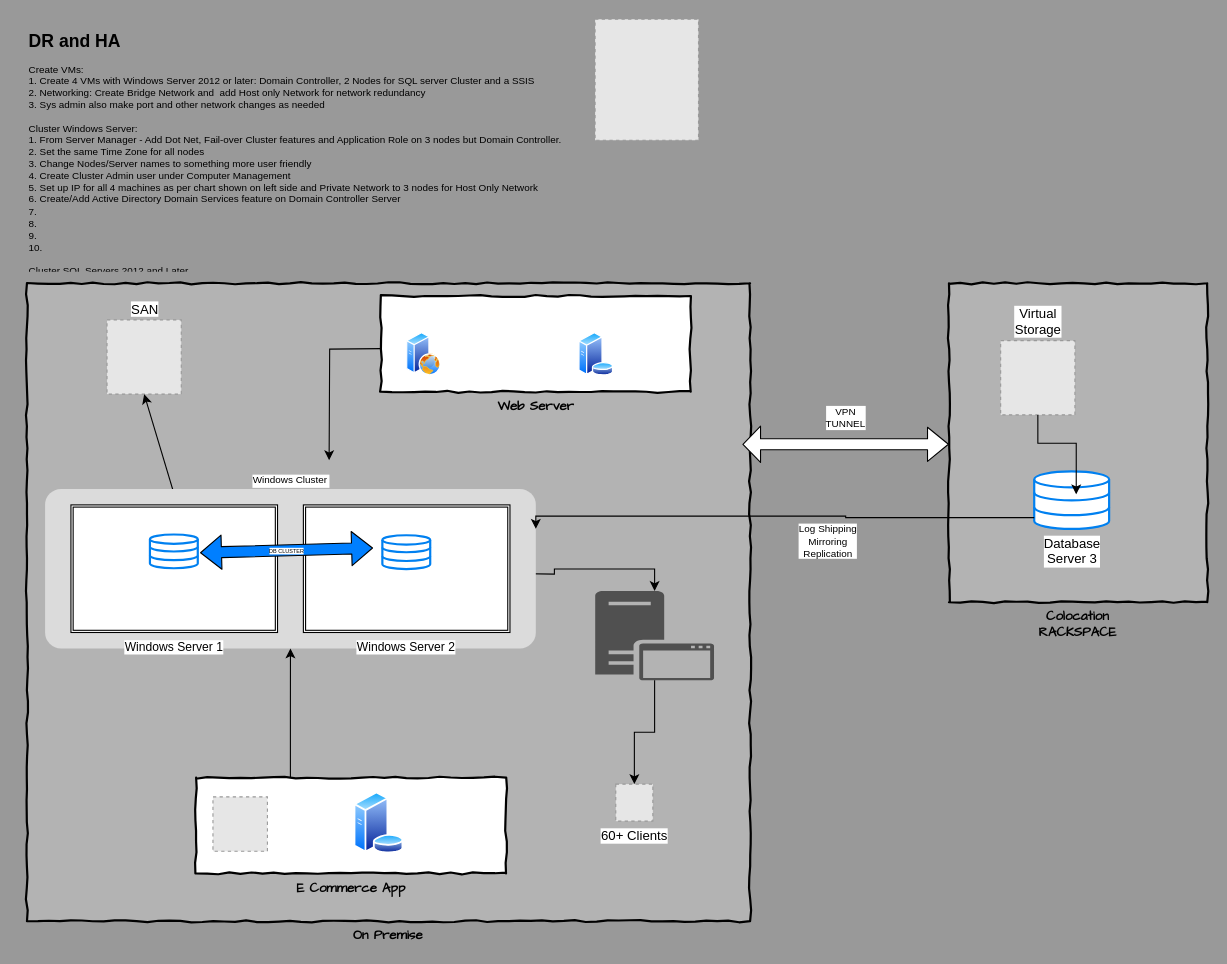
Some shapes in this 1227 by 964 pixel diagram are drawn without their labels. Grey dashed boxes stand in for pictures. The shapes that lost their labels are listed below. From the top down, each one's centre as x and y in pixels, then its label:
At point (423, 353): "IIS".
At point (596, 353): "Database Server 4".
At point (173, 551): "DB Server 1".
At point (406, 552): "DB Server 2".
At point (654, 635): "CRM App Server".
